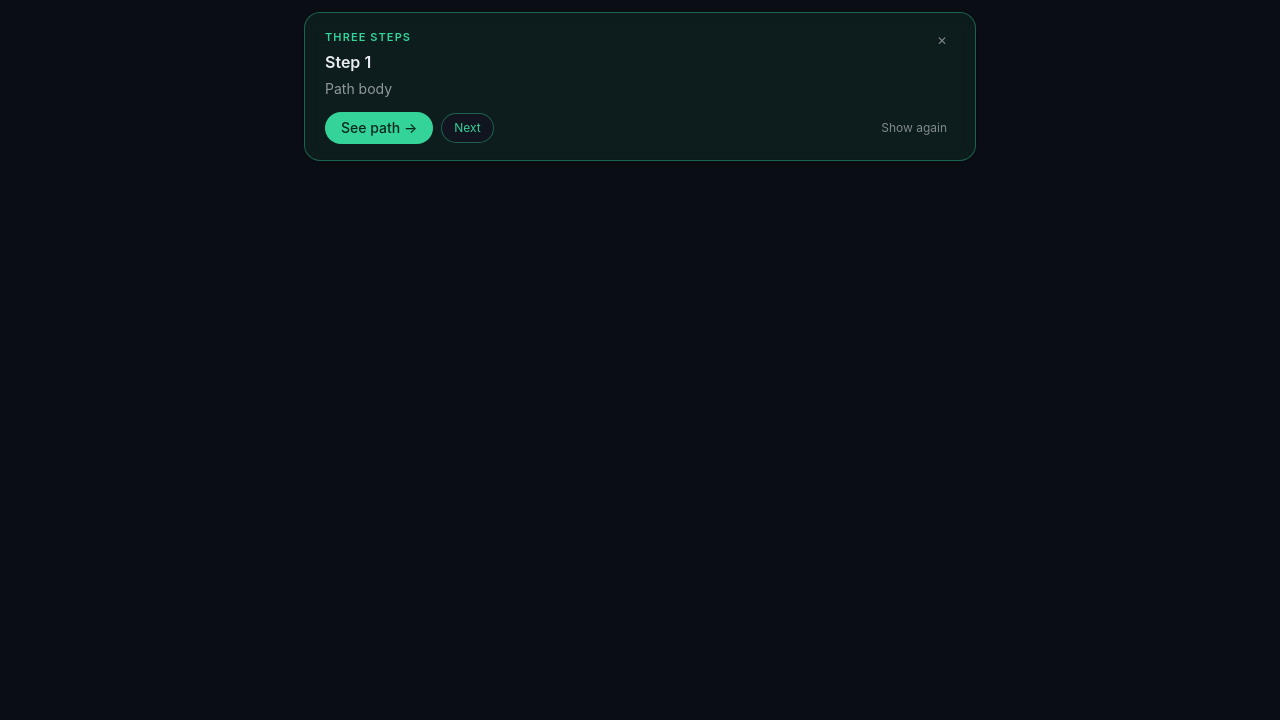
it: OnboardingTour › 点击 Next 从 path 推进到 replay
What coordinates should you click on to do the following:
click the button with test id "onboarding-next"
I would click on:
 (468, 128)
Its box is [441,113,494,143].
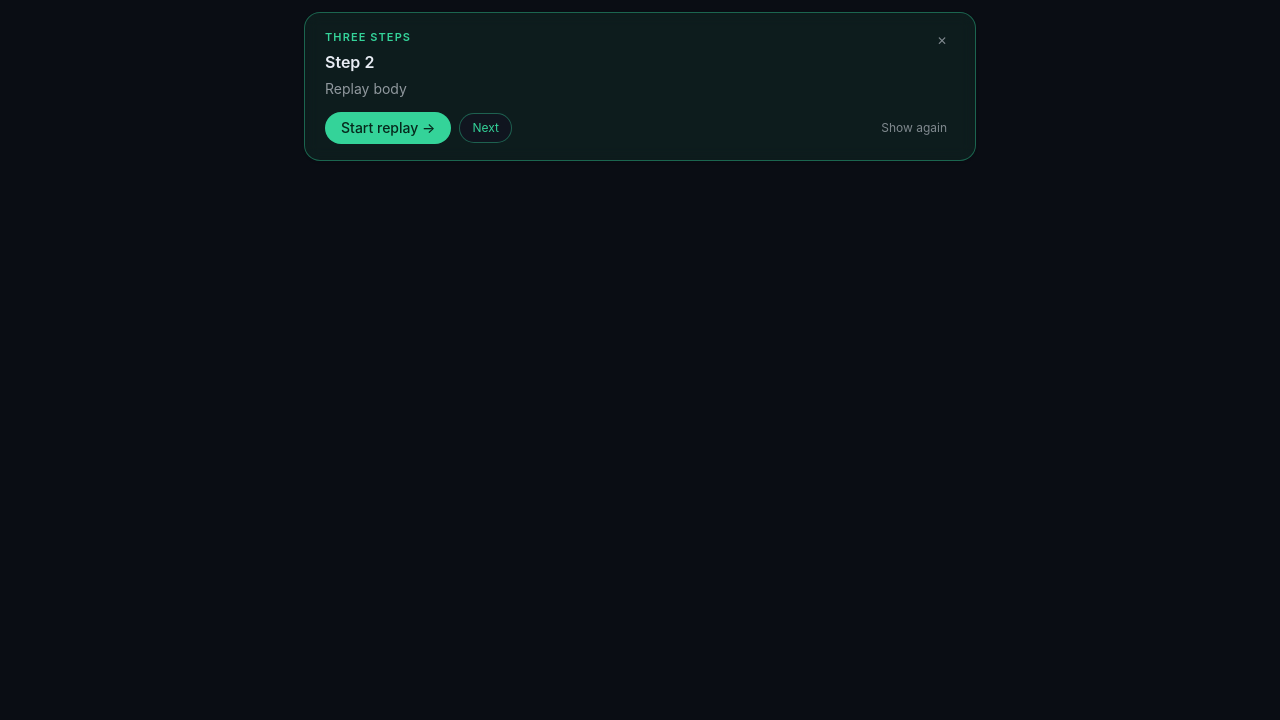
Expected: the dialog with test id "onboarding-tour" shows "Step 2", [325,52,374,72]
